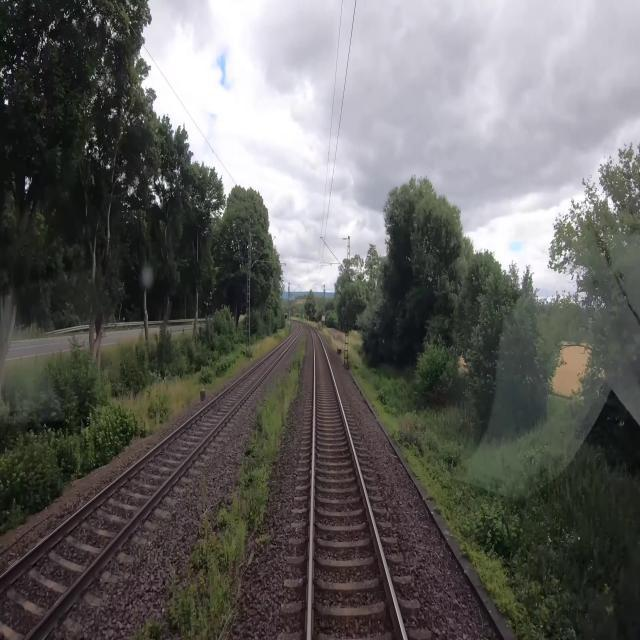Plant: (166, 332, 307, 639), (131, 616, 162, 639)
